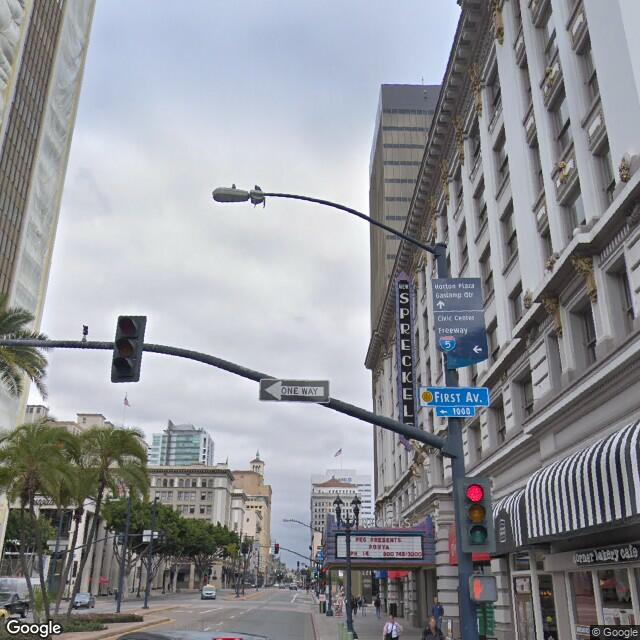light: (211, 183, 255, 207)
window: (561, 305, 612, 362), (594, 148, 616, 205), (563, 192, 584, 225)
